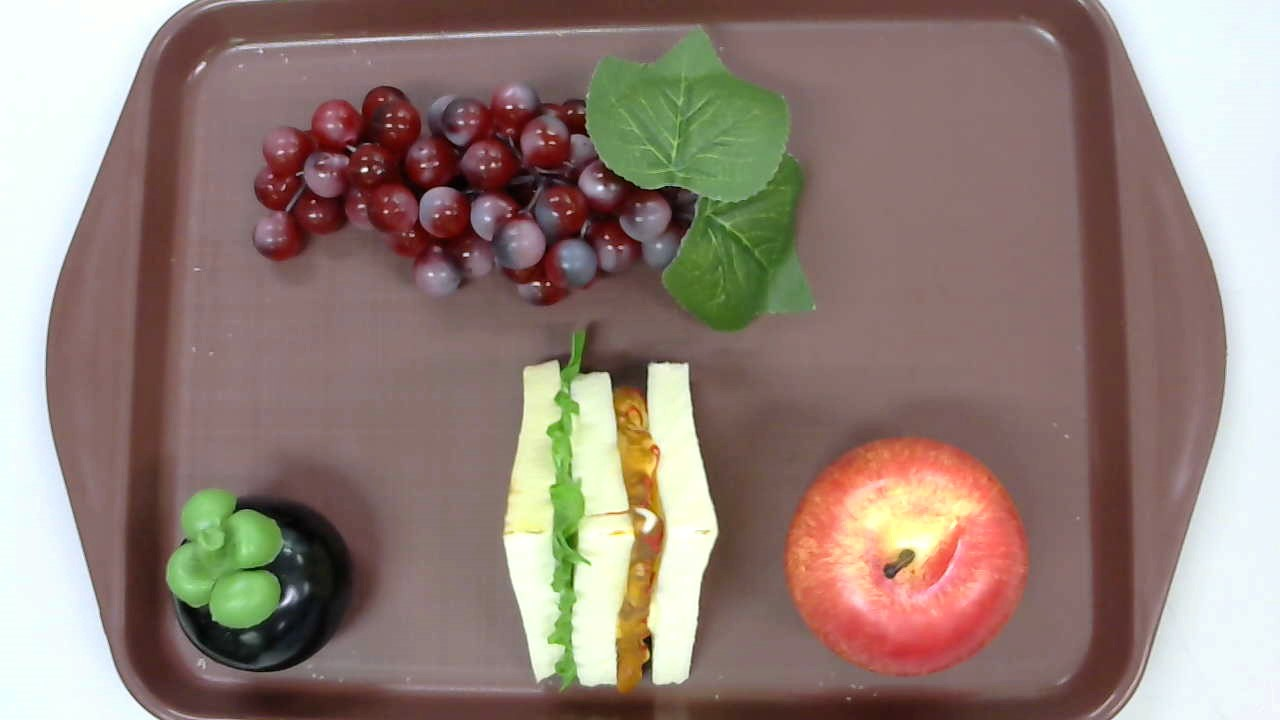grape: (252, 23, 816, 328)
mangosteen: (164, 487, 353, 672)
red apple: (785, 434, 1030, 678)
sandwich: (503, 329, 721, 695)
